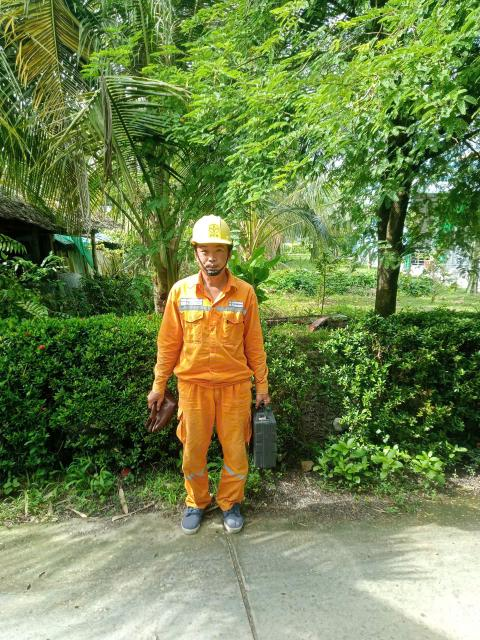helmet: (193, 208, 240, 255)
shoes: (167, 498, 215, 542), (217, 504, 254, 537)
